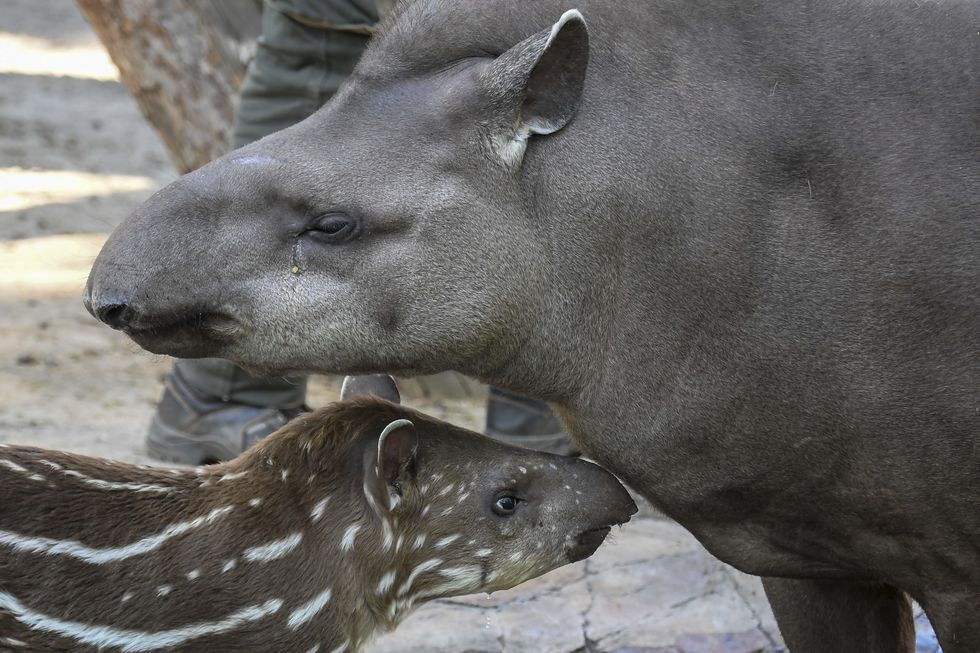Anta: (69, 11, 968, 637), (7, 369, 643, 644)
